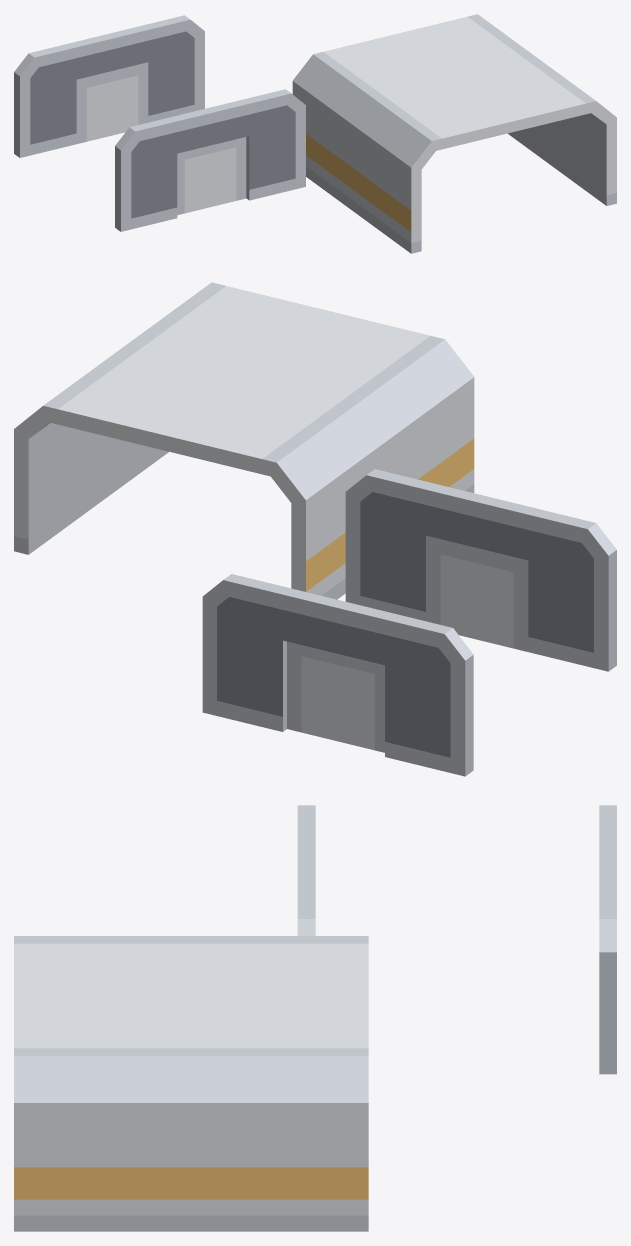
File: hangar_smallA.glb
3 renders of one model, top to bottom at view 1: azimuth 30°, elevation 25°; view 2: azimuth 150°, elevation 25°; view 3: azimuth 270°, elevation 25°, orthographic. The views are drawn at different scales.
Visible parts, largest first — view 1: hangar_smallA, gate.005, gate.004; view 2: hangar_smallA, gate.004, gate.005; view 3: hangar_smallA, gate.004, gate.005.
Part boxes in pixels (x1,y1,x2,y2): hangar_smallA: [292, 14, 616, 253]; gate.005: [115, 89, 305, 231]; gate.004: [14, 15, 204, 157]; hangar_smallA: [14, 282, 474, 599]; gate.004: [202, 574, 473, 776]; gate.005: [345, 469, 616, 671]; hangar_smallA: [14, 936, 368, 1231]; gate.004: [599, 805, 616, 1074]; gate.005: [297, 805, 315, 935].
Bounding box in the file's own units: 3.9 × 1 × 3.4.
